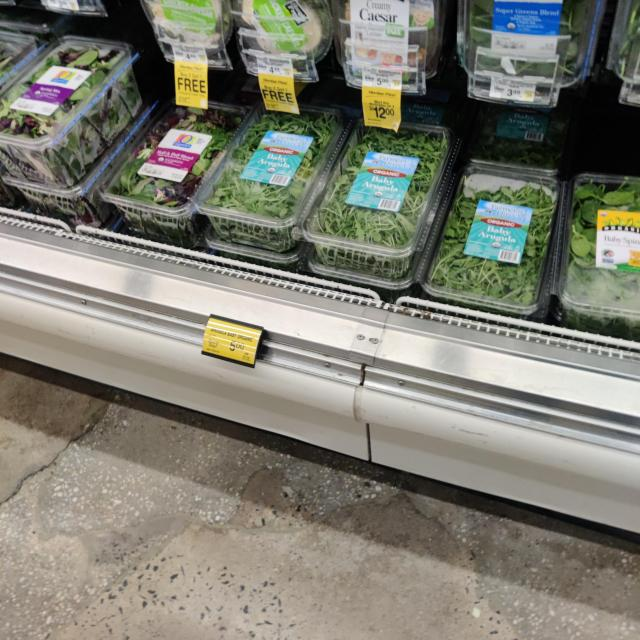Salad: (305, 120, 453, 278), (101, 98, 250, 246), (206, 105, 350, 253), (0, 37, 141, 188), (431, 163, 561, 315), (555, 176, 640, 329)
